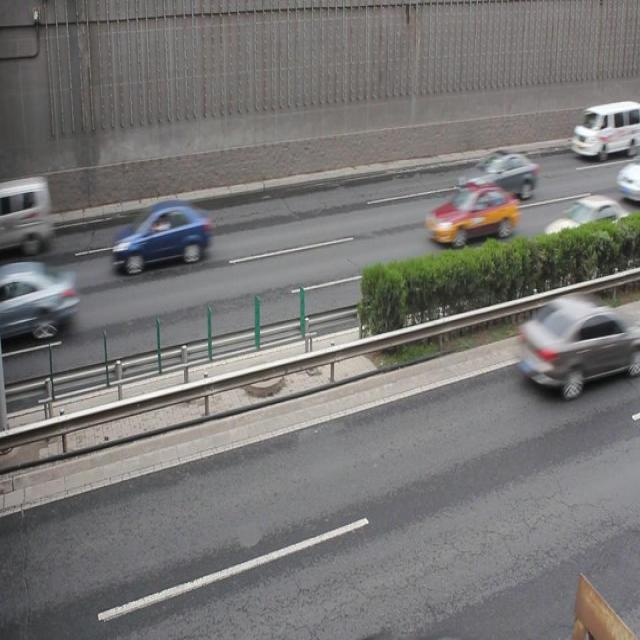car: (516, 296, 640, 394), (113, 202, 210, 276), (425, 185, 518, 246), (542, 195, 630, 252), (461, 152, 537, 202), (614, 157, 640, 201)
truck: (570, 99, 640, 157)
